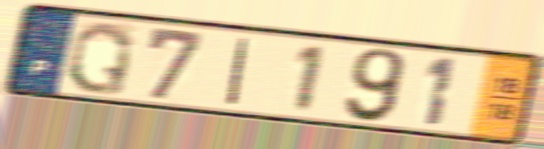1: (291, 44, 327, 115), (424, 56, 458, 130)
7: (145, 24, 207, 103)
9: (344, 46, 408, 125)
I: (223, 35, 253, 108)
Q: (63, 19, 137, 99)
